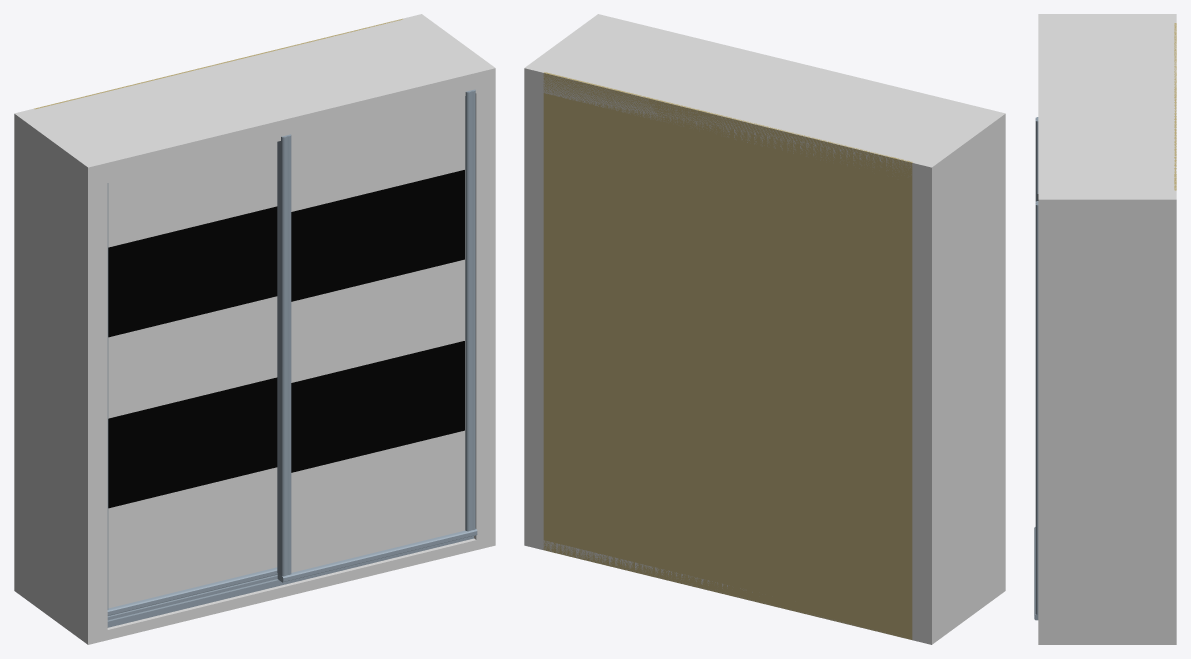
File: ArmarioBNSol.fbx
3 views of the same model, side by side, from view 1: azimuth 30°, elevation 25°; view 2: azimuth 150°, elevation 25°; view 3: azimuth 270°, elevation 25° (orthographic). The views are drawn at different scales.
Visible parts, largest first — view 1: pCube24 (×2), pCube1, pCube4, pCube30 (×2), pCube29 (×2), pCube2, pCube26 (×2), pCube25, pCube5, pCube27 (×2), pCube23; view 2: pCube3, pCube1, pCube4, pCube2, pCube5; view 3: pCube2, pCube4, pCube25, pCube1, pCube3, pCube26.
Boxes of the visible parts, x1=… form: pCube24 (×2): x1=108, y1=96, x2=465, y2=608; pCube1: x1=14, y1=109, x2=107, y2=644; pCube4: x1=35, y1=19, x2=476, y2=182; pCube30 (×2): x1=108, y1=341, x2=464, y2=508; pCube29 (×2): x1=108, y1=170, x2=464, y2=337; pCube2: x1=403, y1=14, x2=495, y2=549; pCube26 (×2): x1=107, y1=134, x2=291, y2=609; pCube25: x1=465, y1=89, x2=475, y2=531; pCube5: x1=107, y1=538, x2=476, y2=639; pCube27 (×2): x1=107, y1=529, x2=477, y2=616; pCube23: x1=107, y1=536, x2=473, y2=627; pCube3: x1=543, y1=72, x2=912, y2=639; pCube1: x1=912, y1=109, x2=1005, y2=644; pCube4: x1=543, y1=18, x2=985, y2=176; pCube2: x1=524, y1=14, x2=616, y2=549; pCube5: x1=543, y1=540, x2=903, y2=637; pCube2: x1=1038, y1=190, x2=1176, y2=644; pCube4: x1=1038, y1=23, x2=1176, y2=190; pCube25: x1=1035, y1=201, x2=1038, y2=614; pCube1: x1=1038, y1=14, x2=1176, y2=22; pCube3: x1=1174, y1=23, x2=1176, y2=190; pCube26: x1=1035, y1=117, x2=1038, y2=201.
Bounding box in the file's own units: 210 × 235 × 67.92.
